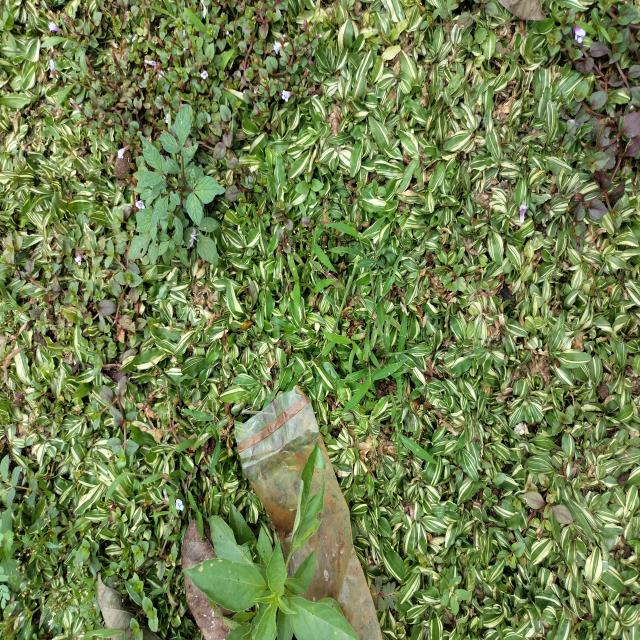buah daun: (367, 575, 402, 613)
daun tiga: (125, 103, 226, 268)
gingseng jawa: (0, 289, 31, 329), (232, 198, 254, 231)
rambat atas: (338, 356, 410, 416), (388, 390, 439, 468), (324, 221, 374, 298), (179, 395, 224, 479), (377, 310, 411, 402), (368, 247, 406, 324), (320, 324, 368, 368), (104, 469, 150, 506), (310, 223, 339, 275), (286, 250, 302, 317), (188, 488, 205, 545), (140, 469, 181, 490), (184, 7, 212, 36), (162, 482, 182, 520), (149, 0, 178, 22)
tunggang tengah: (0, 452, 46, 509), (438, 565, 472, 618)
ungu tunggang: (47, 0, 235, 160), (539, 0, 640, 258), (42, 237, 144, 346), (229, 0, 323, 111), (496, 474, 575, 570), (127, 539, 180, 640), (228, 154, 270, 205), (271, 198, 297, 256), (440, 262, 468, 295), (551, 402, 576, 438), (70, 538, 100, 566), (293, 177, 324, 204)
